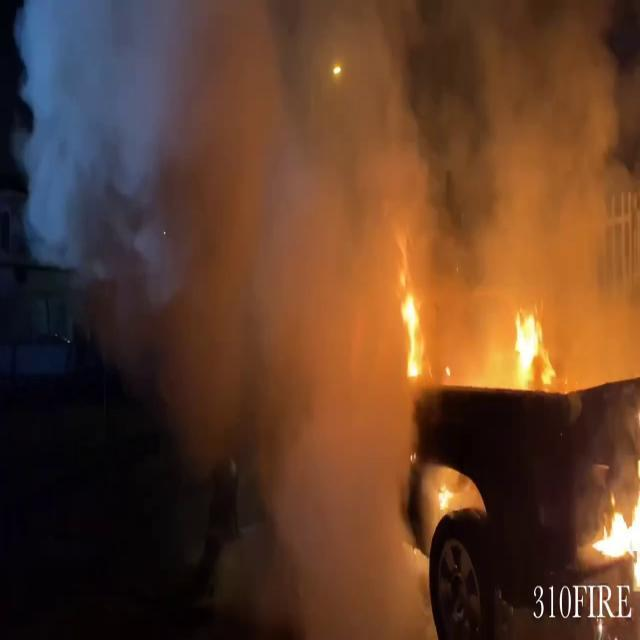Fire: (589, 402, 640, 593), (389, 260, 436, 386), (502, 303, 560, 391)
Smoke: (98, 0, 640, 362)
